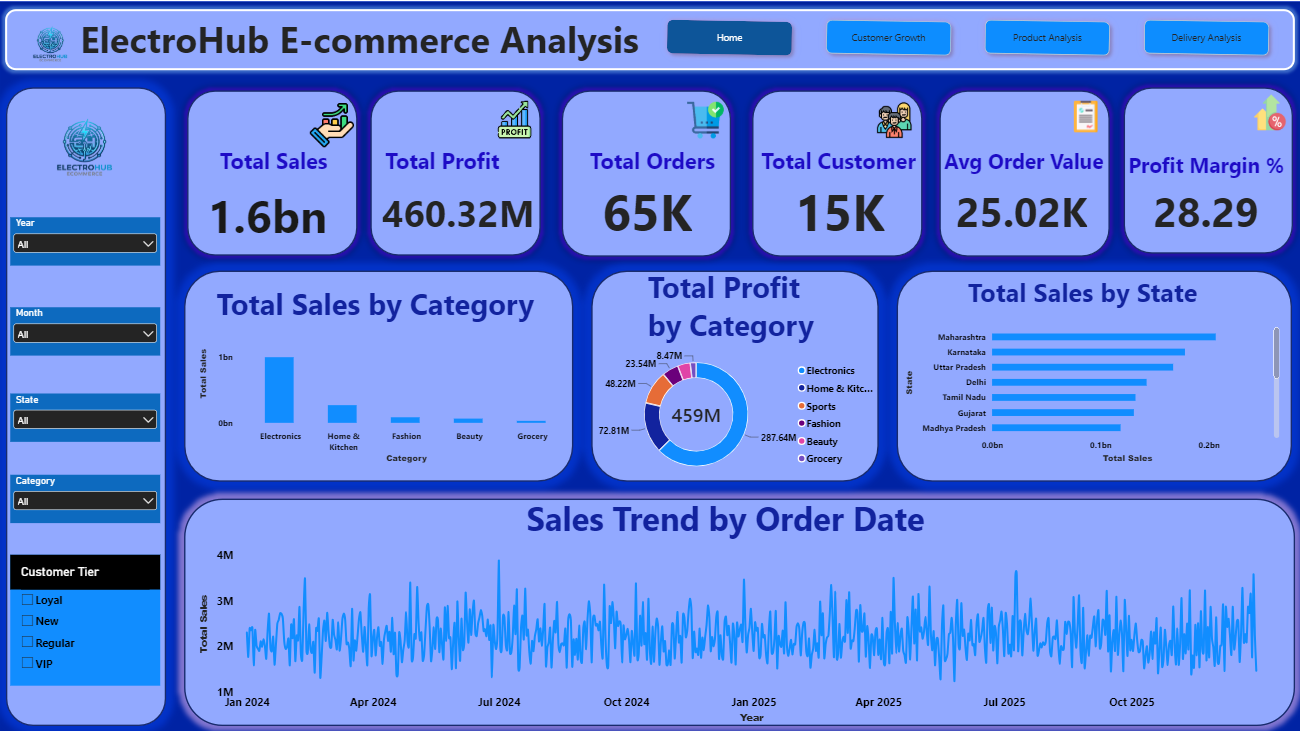

The page's visual inventory and layout, read from the dashboard file:
{"tool":"powerbi","page":{"name":"Home","canvas":[1920,1080],"ordinal":0},"visuals":[{"type":"image","box":[0,3.7,150.9,119.6],"z":0,"group":"g1"},{"type":"image","box":[3.7,136.2,244.5,160.1],"z":0,"group":"g2"},{"type":"cardVisual","fields":{"Data":["order_items.Total Sales"]},"box":[279.2,235.9,231.6,153.7],"z":0},{"type":"group","id":"g1","title":"Group 2","box":[0,3.7,972.3,119.6],"z":1000,"group":"g3"},{"type":"textbox","box":[119.6,18.4,852.7,95.2],"z":1000,"group":"g1"},{"type":"group","id":"g2","title":"Group 2","box":[3.7,136.2,244.5,155.8],"z":1000,"group":"g4"},{"type":"shape","box":[279.2,199.1,248.9,71.4],"z":1000},{"type":"shape","box":[528.1,199.1,248.9,71.4],"z":2000},{"type":"shape","box":[837.5,199.1,248.9,71.4],"z":3000},{"type":"shape","box":[1112.4,199.1,248.9,71.4],"z":4000},{"type":"shape","box":[1382.9,205.6,253.2,58.4],"z":5000},{"type":"shape","box":[1653.4,212.1,248.9,58.4],"z":6000},{"type":"cardVisual","fields":{"Data":["order_items.Total Profit"]},"box":[528.2,215.3,296.5,186.1],"z":7000},{"type":"cardVisual","fields":{"Data":["order_items.Total Orders"]},"box":[861.3,229.4,225.1,153.7],"z":8000},{"type":"cardVisual","fields":{"Data":["order_items.Total Customer"]},"box":[1144.8,229.4,216.4,153.7],"z":9000},{"type":"cardVisual","fields":{"Data":["order_items.Average Order Value"]},"box":[1382.9,212.1,324.6,190.4],"z":10000},{"type":"cardVisual","fields":{"Data":["order_items.Profit Margin %"]},"box":[1672.9,242.4,212.1,125.5],"z":11000},{"type":"lineChart","fields":{"Y":["order_items.Total Sales"],"Category":["orders.Order_Date.Variation.Date Hierarchy.Year","orders.Order_Date.Variation.Date Hierarchy.Quarter","orders.Order_Date.Variation.Date Hierarchy.Month","orders.Order_Date.Variation.Date Hierarchy.Day"]},"box":[279.8,789.6,1621.5,290.8],"z":12000},{"type":"clusteredColumnChart","fields":{"Y":["order_items.Total Sales"],"Category":["products.Category"]},"box":[279.2,452.3,582.2,244.5],"z":13000},{"type":"clusteredBarChart","fields":{"Y":["order_items.Total Sales"],"Category":["customers.State"]},"box":[1319.6,458.3,581.6,239.3],"z":14000},{"type":"donutChart","fields":{"Y":["order_items.Total Profit"],"Category":["products.Category"]},"box":[861.4,489.6,458.3,239.3],"z":15000},{"type":"textbox","box":[320.2,416,517.2,84.7],"z":16000},{"type":"textbox","box":[776.7,728.8,610.3,75.7],"z":17000},{"type":"textbox","box":[1426.2,402.5,376.6,62.8],"z":18000},{"type":"textbox","box":[954.4,389.5,283.5,119],"z":19000},{"type":"slicer","title":"Year","fields":{"Values":["orders.Order_Date.Variation.Date Hierarchy.Year"]},"box":[17.3,318.1,220.7,71.4],"z":20000},{"type":"slicer","title":"Year","fields":{"Values":["customers.State"]},"box":[17.3,577.8,220.7,71.4],"z":21000},{"type":"slicer","title":"Year","fields":{"Values":["orders.Order_Date.Variation.Date Hierarchy.Month"]},"box":[17.3,450.1,220.7,71.4],"z":22000},{"type":"slicer","title":"Year","fields":{"Values":["products.Category"]},"box":[17.3,696.9,220.7,71.4],"z":23000},{"type":"group","id":"g3","title":"Group 1","box":[0,3.7,972.3,119.6],"z":24000},{"type":"pageNavigator","box":[962.6,18.4,929.5,71.8],"z":25000},{"type":"listSlicer","title":"Customer Tier","fields":{"Values":["customers.Customer_Tier"]},"box":[17.3,815.9,220.7,192.6],"z":26000},{"type":"group","id":"g4","title":"Group 1","box":[3.7,136.2,244.8,156.4],"z":27000}]}

Visuals, with their boxes in screenshot pixels (x1, y1, x2, y2), scaled from the page's 1920x1080 canvas onto the 1300x731 screenshot:
image: BBox(0, 3, 102, 83)
image: BBox(3, 92, 168, 201)
cardVisual - order_items.Total Sales: BBox(189, 160, 346, 264)
"Group 2" group: BBox(0, 3, 658, 83)
textbox: BBox(81, 12, 658, 77)
"Group 2" group: BBox(3, 92, 168, 198)
shape: BBox(189, 135, 358, 183)
shape: BBox(358, 135, 526, 183)
shape: BBox(567, 135, 736, 183)
shape: BBox(753, 135, 922, 183)
shape: BBox(936, 139, 1108, 179)
shape: BBox(1119, 144, 1288, 183)
cardVisual - order_items.Total Profit: BBox(358, 146, 558, 272)
cardVisual - order_items.Total Orders: BBox(583, 155, 736, 259)
cardVisual - order_items.Total Customer: BBox(775, 155, 922, 259)
cardVisual - order_items.Average Order Value: BBox(936, 144, 1156, 272)
cardVisual - order_items.Profit Margin %: BBox(1133, 164, 1276, 249)
lineChart - order_items.Total Sales x orders.Order_Date.Variation.Date Hierarchy.Year: BBox(189, 534, 1287, 730)
clusteredColumnChart - order_items.Total Sales x products.Category: BBox(189, 306, 583, 472)
clusteredBarChart - order_items.Total Sales x customers.State: BBox(893, 310, 1287, 472)
donutChart - order_items.Total Profit x products.Category: BBox(583, 331, 894, 493)
textbox: BBox(217, 282, 567, 339)
textbox: BBox(526, 493, 939, 545)
textbox: BBox(966, 272, 1221, 315)
textbox: BBox(646, 264, 838, 344)
"Year" slicer: BBox(12, 215, 161, 264)
"Year" slicer: BBox(12, 391, 161, 439)
"Year" slicer: BBox(12, 305, 161, 353)
"Year" slicer: BBox(12, 472, 161, 520)
"Group 1" group: BBox(0, 3, 658, 83)
pageNavigator: BBox(652, 12, 1281, 61)
"Customer Tier" listSlicer: BBox(12, 552, 161, 683)
"Group 1" group: BBox(3, 92, 168, 198)
